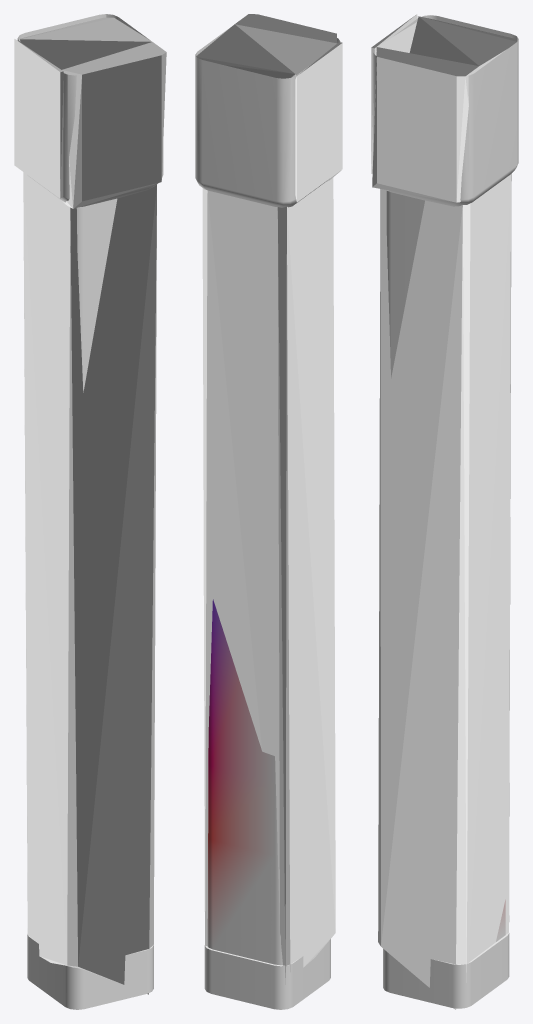
The picture shows the model from 3 angles, left to right: view 1: azimuth 30°, elevation 25°; view 2: azimuth 150°, elevation 25°; view 3: azimuth 330°, elevation 25°; orthographic projection.
Visible parts, largest first — view 1: SM_Pillar_Platform_01_ConvexHulls, SM_Pillar_Platform_01_LOD0; view 2: SM_Pillar_Platform_01_ConvexHulls, SM_Pillar_Platform_01_LOD0; view 3: SM_Pillar_Platform_01_ConvexHulls, SM_Pillar_Platform_01_LOD0.
Part boxes in pixels (x1,y1,x2,y2): SM_Pillar_Platform_01_ConvexHulls: [14, 17, 166, 994]; SM_Pillar_Platform_01_LOD0: [17, 14, 163, 1009]; SM_Pillar_Platform_01_ConvexHulls: [196, 14, 342, 984]; SM_Pillar_Platform_01_LOD0: [195, 26, 340, 1009]; SM_Pillar_Platform_01_ConvexHulls: [371, 14, 517, 1009]; SM_Pillar_Platform_01_LOD0: [373, 15, 518, 1008].
Bounding box in the file's own units: 90.82 × 90.82 × 800.
